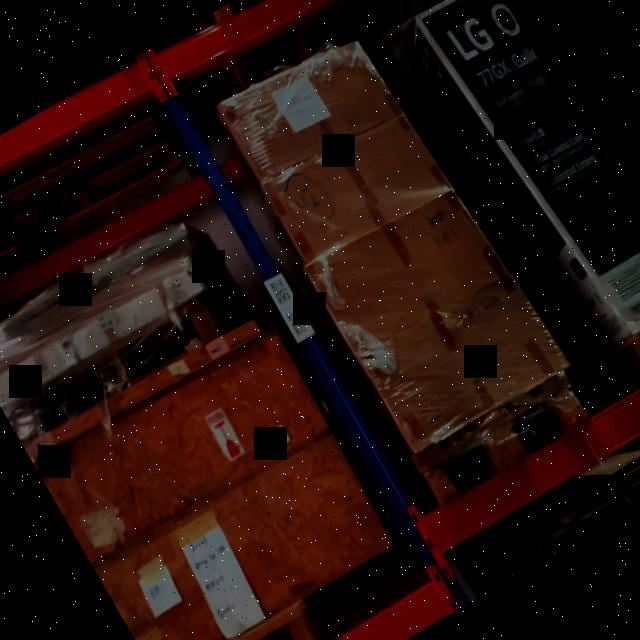box: (304, 182, 558, 452), (220, 30, 446, 263)
